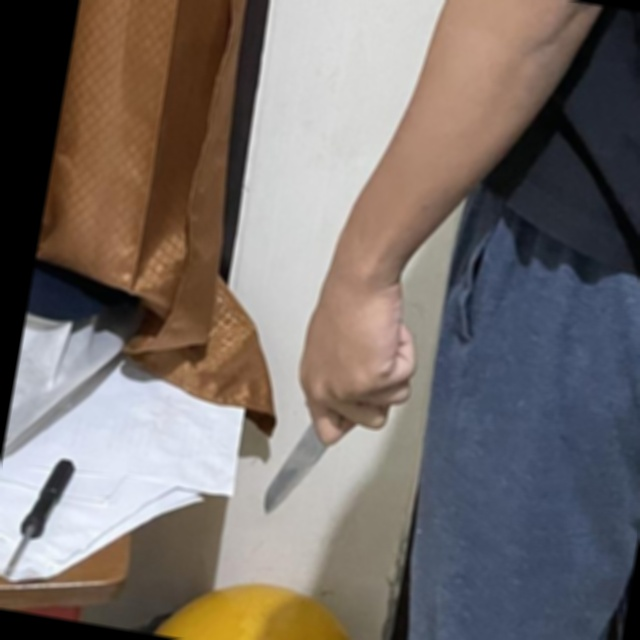Sharp-Object: (258, 400, 344, 528)
